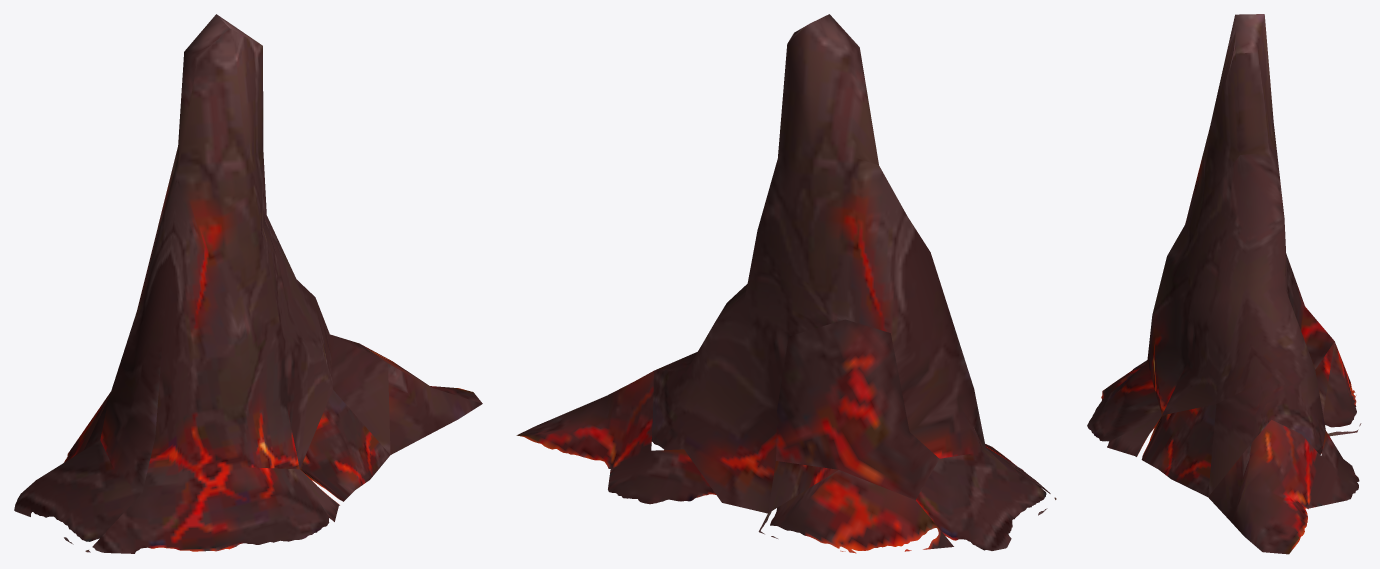
The model's file is huoshan_shitou12.fbx.
3 renders of one model, left to right at view 1: azimuth 30°, elevation 25°; view 2: azimuth 150°, elevation 25°; view 3: azimuth 270°, elevation 25°, orthographic. The views are drawn at different scales.
Visible parts, largest first — view 1: huoshan_shitou12; view 2: huoshan_shitou12; view 3: huoshan_shitou12.
Part boxes in pixels (x1,y1,x2,y2): huoshan_shitou12: [14, 14, 482, 553]; huoshan_shitou12: [516, 14, 1056, 553]; huoshan_shitou12: [1087, 14, 1361, 554].
Bounding box in the file's own units: 1.38 × 1.28 × 0.7743.
